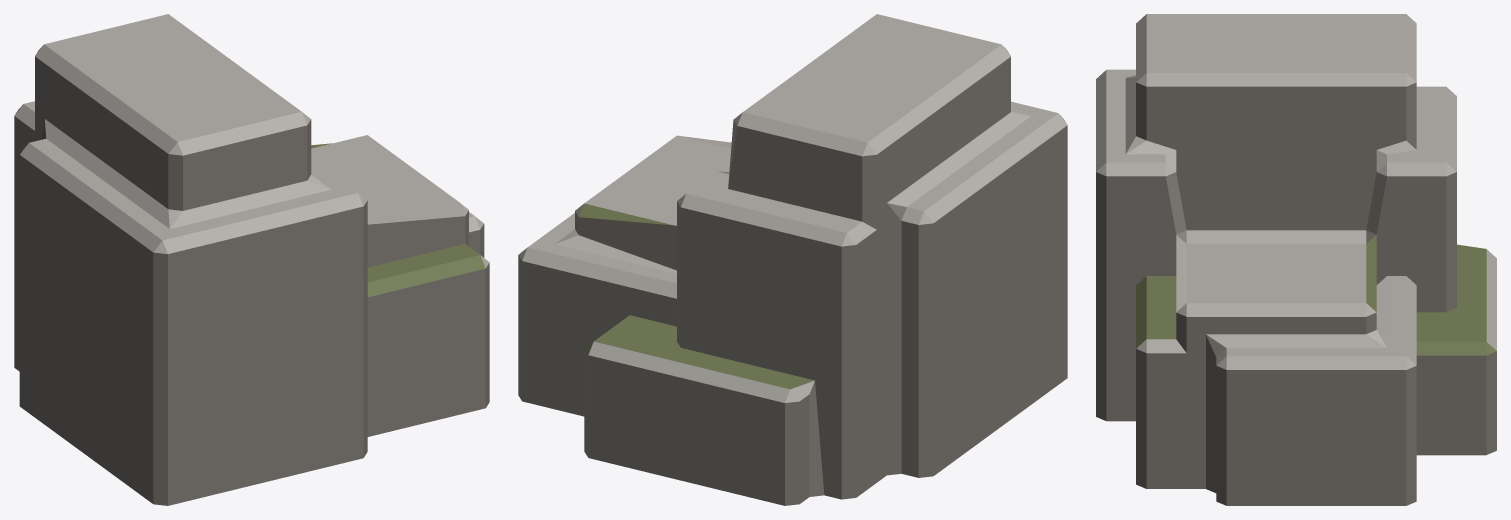
The model's file is rock_stage2_var_0.glb.
The picture shows the model from 3 angles, left to right: view 1: azimuth 30°, elevation 25°; view 2: azimuth 150°, elevation 25°; view 3: azimuth 270°, elevation 25°; orthographic projection. The views are drawn at different scales.
Visible parts, largest first — view 1: destructible_rock_stage_2_var_1_S, destructible_rock_stage_2_var_1_L, destructible_rock_stage_2_var_1_M; view 2: destructible_rock_stage_2_var_1_S, destructible_rock_stage_2_var_1_L, destructible_rock_stage_2_var_1_M; view 3: destructible_rock_stage_2_var_1_S, destructible_rock_stage_2_var_1_L, destructible_rock_stage_2_var_1_M.
Part boxes in pixels (<box>): destructible_rock_stage_2_var_1_S: <box>14,56,489,505</box>; destructible_rock_stage_2_var_1_L: <box>14,14,489,268</box>; destructible_rock_stage_2_var_1_M: <box>311,143,485,297</box>; destructible_rock_stage_2_var_1_S: <box>518,57,1067,505</box>; destructible_rock_stage_2_var_1_L: <box>518,14,1067,402</box>; destructible_rock_stage_2_var_1_M: <box>579,203,814,389</box>; destructible_rock_stage_2_var_1_S: <box>1096,82,1496,505</box>; destructible_rock_stage_2_var_1_L: <box>1096,14,1496,369</box>; destructible_rock_stage_2_var_1_M: <box>1136,235,1496,355</box>.
Bounding box in the file's own units: 1.65 × 1.35 × 1.5.
